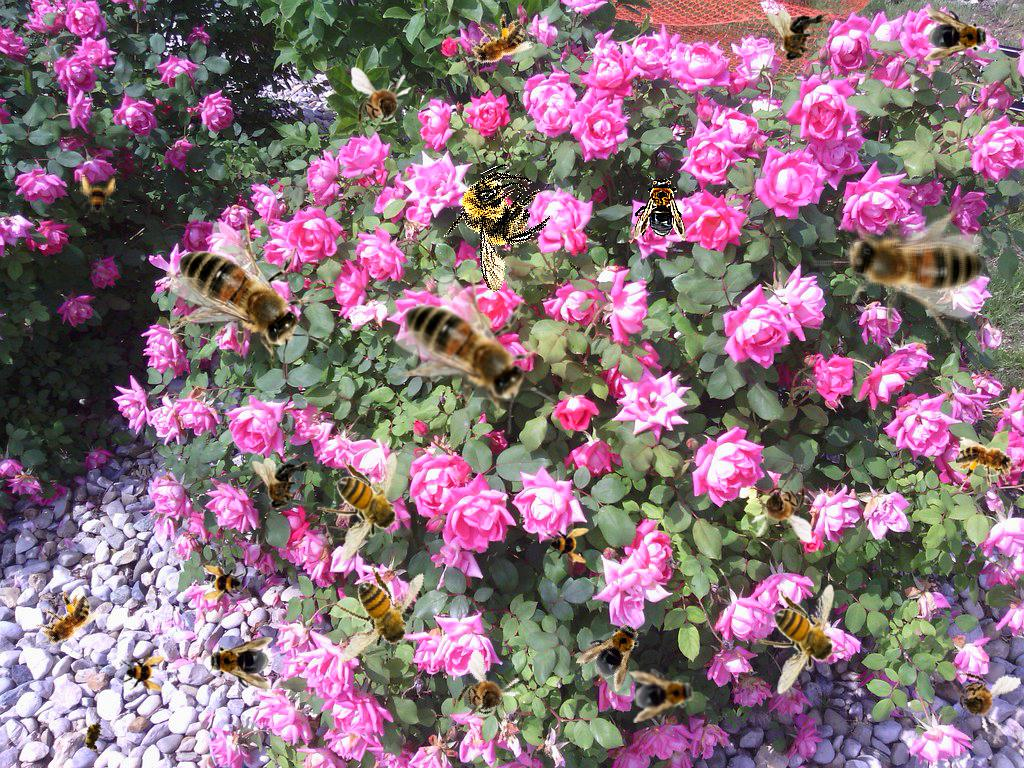Bee: (795, 154, 1020, 380), (167, 213, 329, 380), (393, 267, 555, 434), (425, 153, 572, 304), (315, 549, 440, 685), (754, 584, 848, 695), (317, 452, 411, 563), (443, 648, 530, 738), (574, 607, 656, 693), (939, 661, 1022, 739), (25, 582, 103, 661), (455, 7, 535, 80), (627, 663, 701, 723), (351, 67, 412, 137), (751, 473, 812, 543), (952, 436, 1024, 491), (924, 9, 992, 61), (205, 637, 273, 689), (634, 173, 686, 241), (252, 458, 314, 511), (767, 10, 829, 63), (74, 174, 118, 218), (121, 649, 165, 693), (545, 521, 589, 565), (202, 563, 246, 607), (77, 713, 111, 759)
